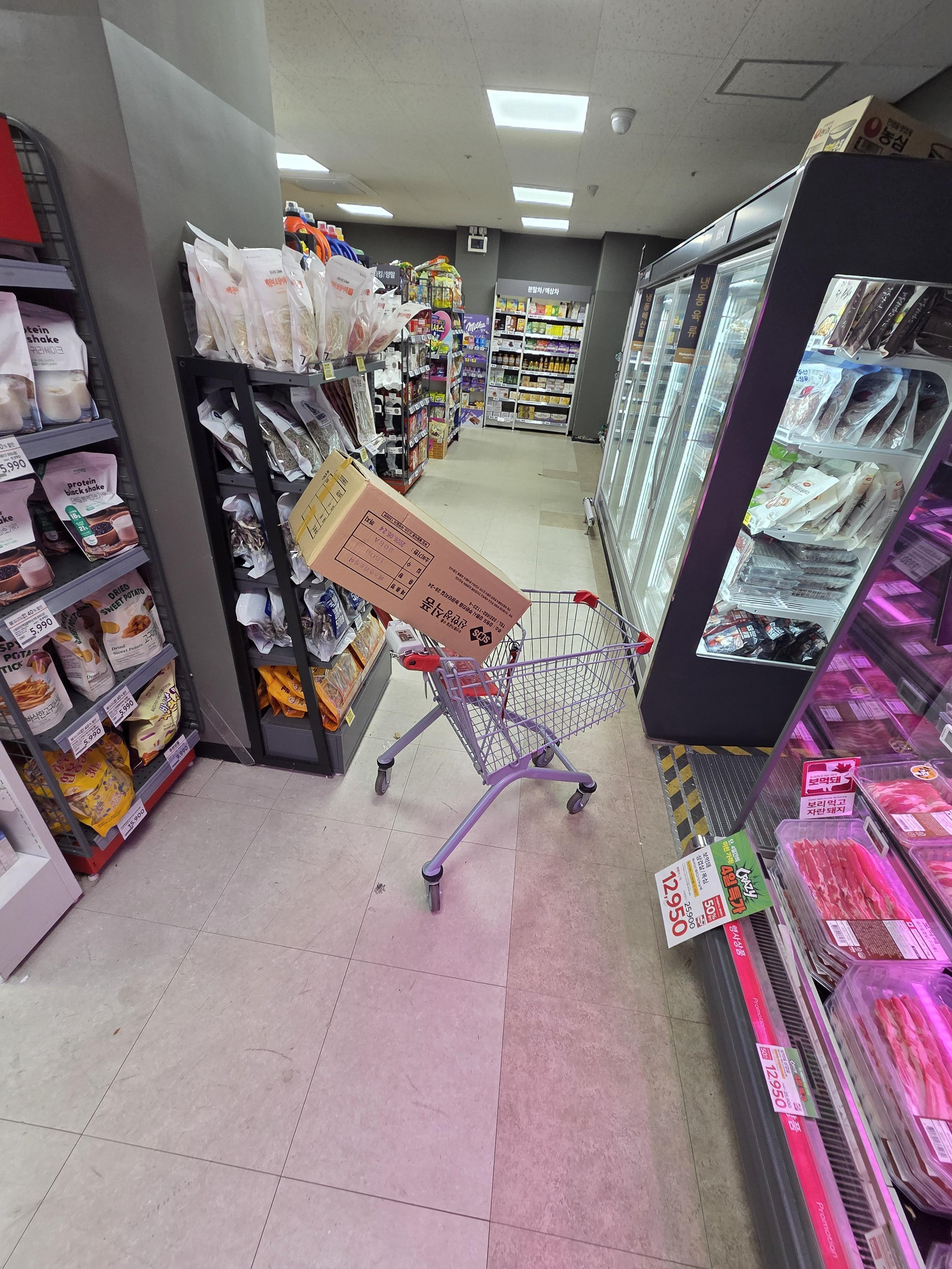fully_cart: (250, 444, 684, 921)
